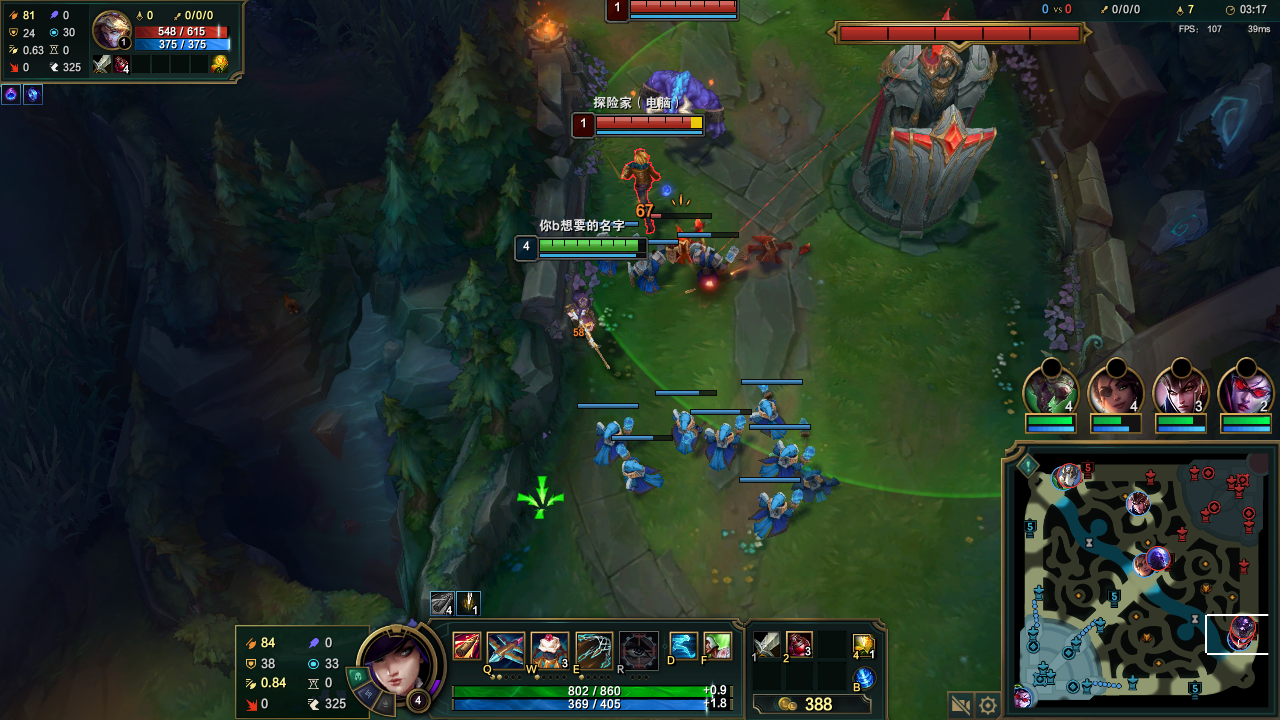DFFYT: (846, 24, 1018, 239)
DFXB: (668, 231, 693, 259)
DFYX: (632, 1, 735, 15), (594, 115, 689, 128)
WFXB: (696, 422, 743, 465), (624, 456, 661, 500), (691, 250, 729, 289), (754, 397, 788, 439), (757, 494, 793, 533), (768, 444, 804, 479), (668, 409, 698, 449), (629, 262, 666, 293), (596, 421, 625, 459)
